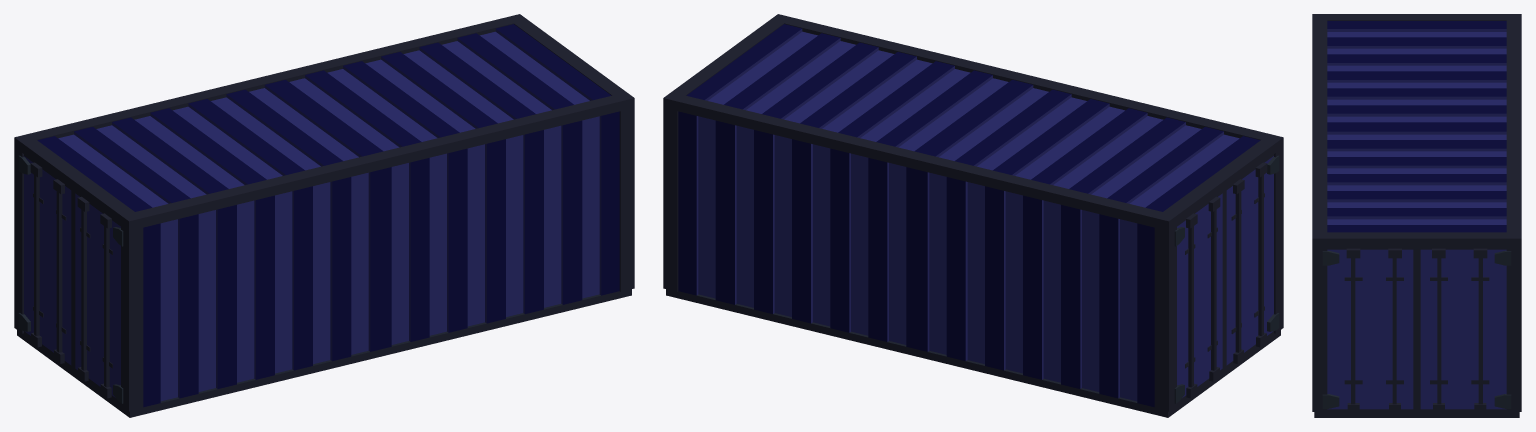
The model's file is Prop_Shippin04.fbx.
The picture shows the model from 3 angles, left to right: view 1: azimuth 30°, elevation 25°; view 2: azimuth 150°, elevation 25°; view 3: azimuth 270°, elevation 25°; orthographic projection. The views are drawn at different scales.
Visible parts, largest first — view 1: Cube.877; view 2: Cube.877; view 3: Cube.877.
Part boxes in pixels (x1,y1,x2,y2): Cube.877: (14,14,634,417); Cube.877: (663,14,1283,417); Cube.877: (1312,14,1521,417).
Bounding box in the file's own units: 910 × 337 × 355.
